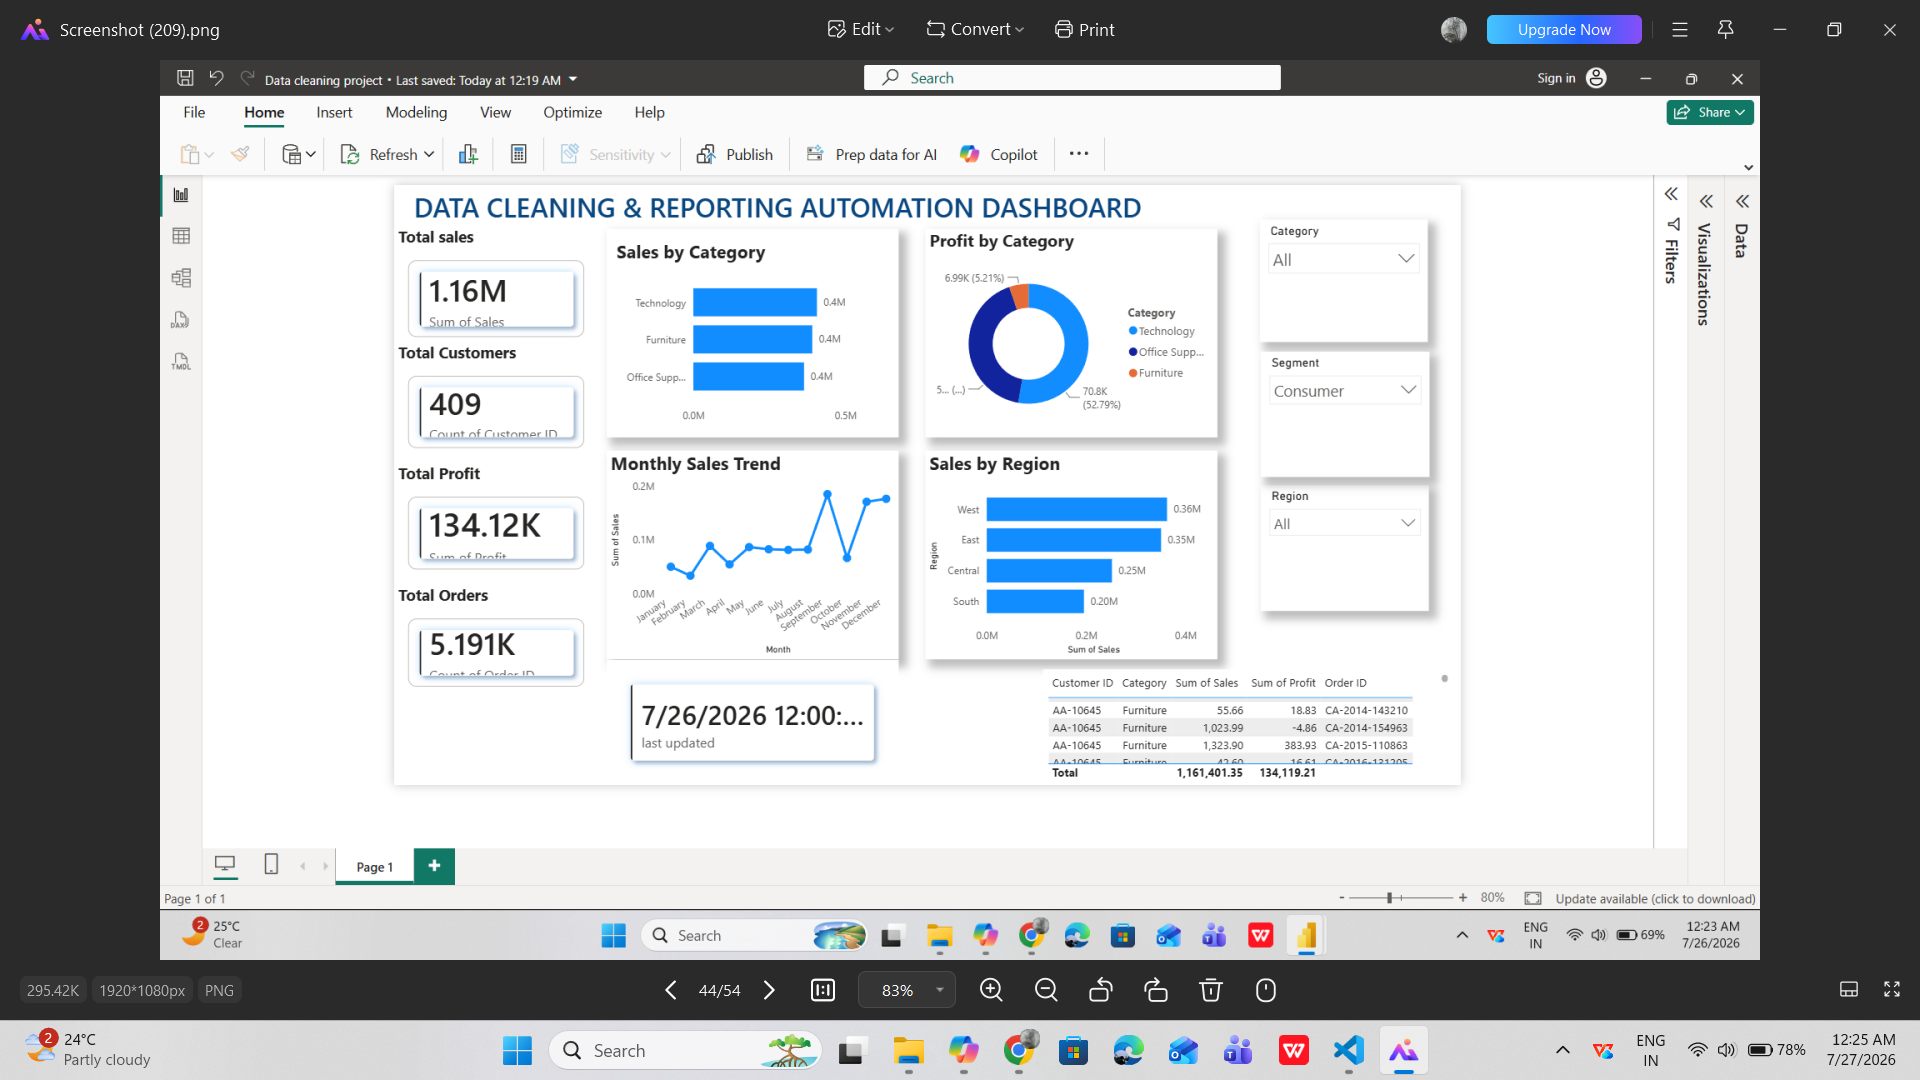

The page's visual inventory and layout, read from the dashboard file:
{"tool":"powerbi","page":{"name":"Page 1","canvas":[1280,720],"ordinal":0},"visuals":[{"type":"textbox","box":[10,0,937.8,101.1],"z":0},{"type":"cardVisual","title":"Total Profit","fields":{"Data":["Sum(cleaned_data.Profit)"]},"box":[0,332.5,245,146.2],"z":1000},{"type":"cardVisual","title":"Total sales","fields":{"Data":["Sum(cleaned_data.Sales)"]},"box":[0,48.8,245,151.2],"z":2000},{"type":"cardVisual","title":"Total Orders","fields":{"Data":["CountNonNull(cleaned_data.Order ID)"]},"box":[0,478.8,245,140],"z":3000},{"type":"cardVisual","title":"Total Customers","fields":{"Data":["Count(cleaned_data.Customer ID)"]},"box":[0,187.5,245,145],"z":4000},{"type":"clusteredBarChart","title":"Sales by Category","fields":{"Category":["cleaned_data.Category"],"Y":["Sum(cleaned_data.Sales)"]},"box":[255,52.5,350,250],"z":5000},{"type":"donutChart","title":"Profit by Category","fields":{"Category":["cleaned_data.Category"],"Y":["Sum(cleaned_data.Profit)"]},"box":[638,53,350,250],"z":6000},{"type":"lineChart","title":"Monthly Sales Trend","fields":{"Category":["cleaned_data.Order Date.Variation.Date Hierarchy.Month"],"Y":["Sum(cleaned_data.Sales)"]},"box":[255,318.8,350,250],"z":7000},{"type":"clusteredBarChart","title":" Sales by Region","fields":{"Category":["cleaned_data.Region"],"Y":["Sum(cleaned_data.Sales)"]},"box":[637.5,318.8,350,250],"z":8000},{"type":"slicer","fields":{"Values":["cleaned_data.Category"]},"box":[1038.8,41.2,201.7,146.8],"z":9000},{"type":"slicer","fields":{"Values":["cleaned_data.Region"]},"box":[1040.1,359.5,201.7,150.9],"z":10000},{"type":"slicer","fields":{"Values":["cleaned_data.Segment"]},"box":[1040,200,202.5,150],"z":11000},{"type":"tableEx","fields":{"Values":["cleaned_data.Customer ID","cleaned_data.Category","Sum(cleaned_data.Sales)","Sum(cleaned_data.Profit)","cleaned_data.Order ID"]},"box":[778.8,581.2,491.2,138.8],"z":12000},{"type":"cardVisual","fields":{"Data":["cleaned_data.last updated"]},"box":[255,570,350,150],"z":13001}]}

Visuals, with their boxes on the page's 1280x720 design canvas (x1, y1, x2, y2). These are canvas units, not pixel positions in the 1920x1080 screenshot, which may show the page scaled, cropped or inside an application window:
textbox: 10/0/948/101
"Total Profit" cardVisual: 0/332/245/479
"Total sales" cardVisual: 0/49/245/200
"Total Orders" cardVisual: 0/479/245/619
"Total Customers" cardVisual: 0/188/245/332
"Sales by Category" clusteredBarChart: 255/52/605/302
"Profit by Category" donutChart: 638/53/988/303
"Monthly Sales Trend" lineChart: 255/319/605/569
" Sales by Region" clusteredBarChart: 638/319/988/569
slicer - cleaned_data.Category: 1039/41/1240/188
slicer - cleaned_data.Region: 1040/360/1242/510
slicer - cleaned_data.Segment: 1040/200/1242/350
tableEx - cleaned_data.Customer ID x cleaned_data.Category: 779/581/1270/720
cardVisual - cleaned_data.last updated: 255/570/605/720
